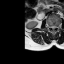CCS_normal: (52, 23, 54, 32)
LFS_normal: (55, 23, 58, 30)
LLS_normal: (54, 23, 55, 30)
RFS_normal: (48, 23, 50, 30)
RLS_stenosis: (50, 23, 52, 30)
